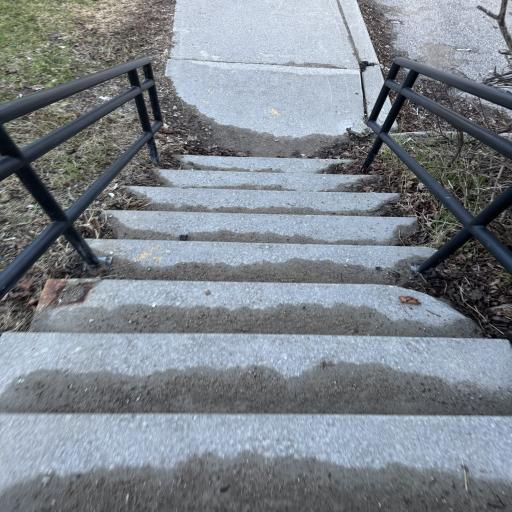Stairs: (0, 155, 512, 511)
